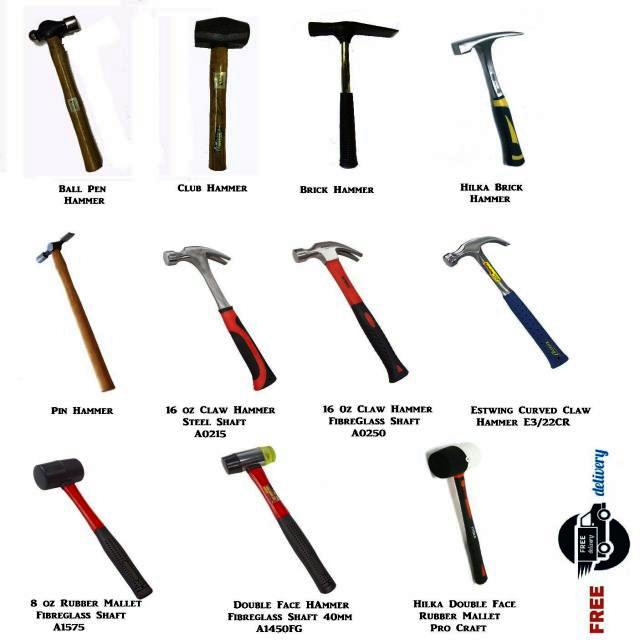hammer: (268, 221, 411, 387), (212, 439, 344, 601), (24, 454, 162, 604), (433, 232, 574, 372), (155, 238, 281, 391), (298, 16, 401, 172), (33, 217, 114, 397), (23, 12, 108, 175), (444, 28, 532, 175), (422, 437, 496, 596), (190, 16, 254, 176)
